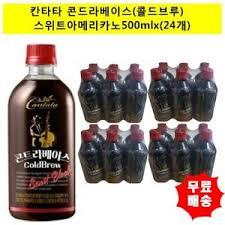contrabass_sweetblack: (7, 42, 80, 223)
